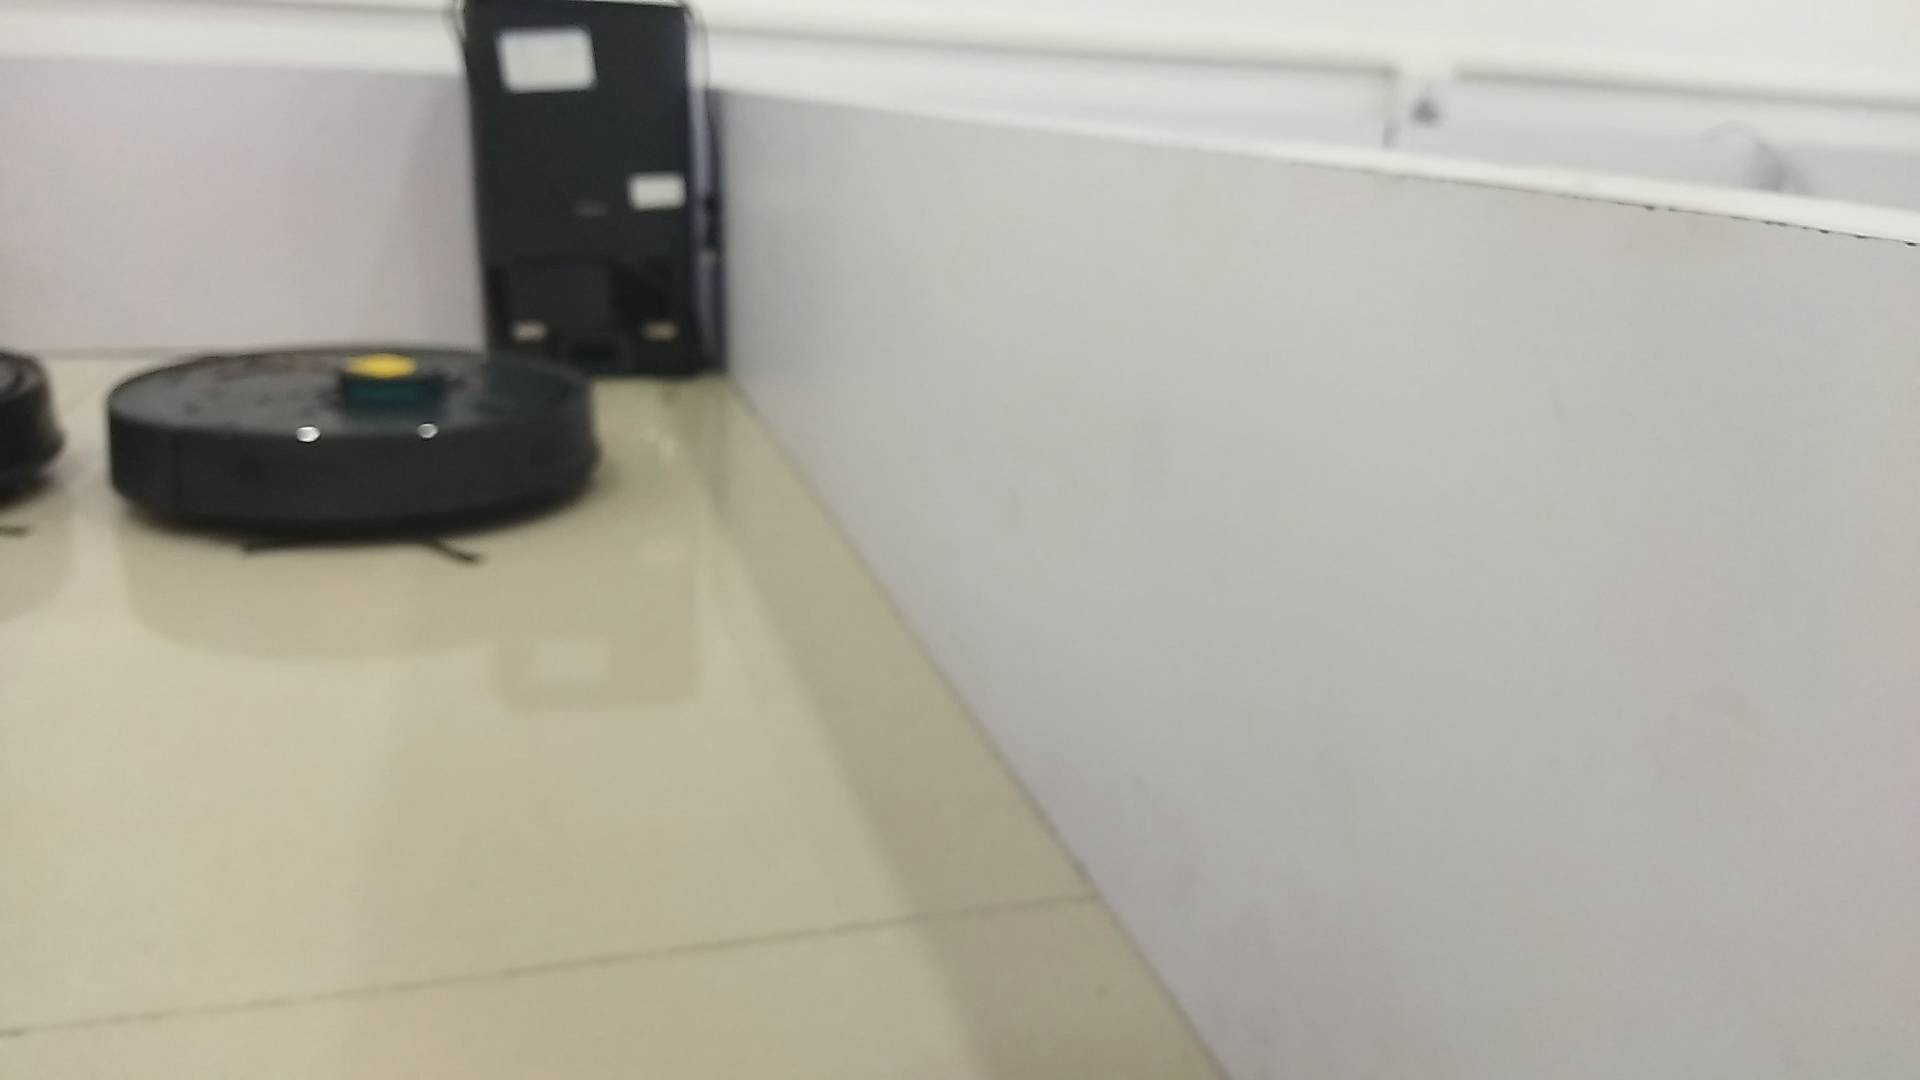dust collecting barrel: (458, 1, 725, 376)
